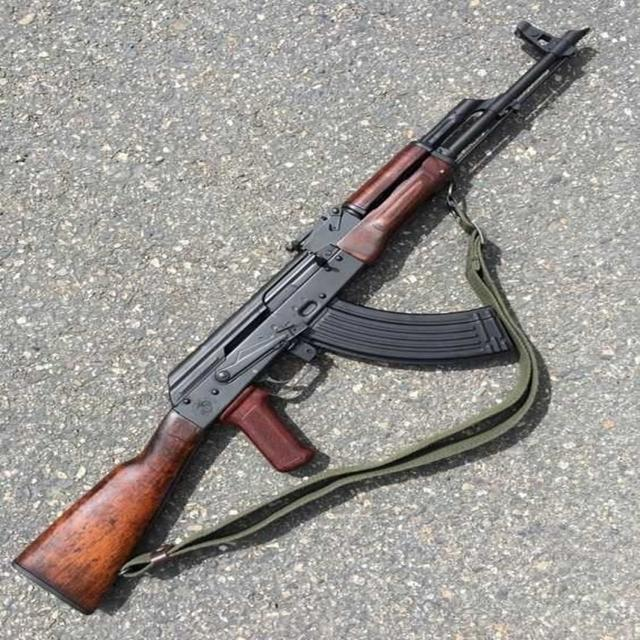ak: (18, 19, 622, 611)
